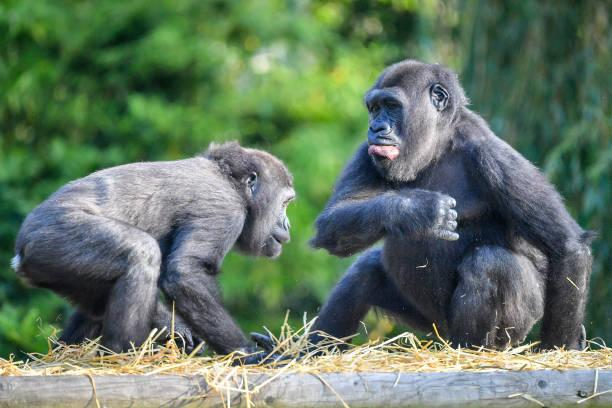gorille_Autres: (10, 45, 320, 378), (318, 41, 588, 350)
